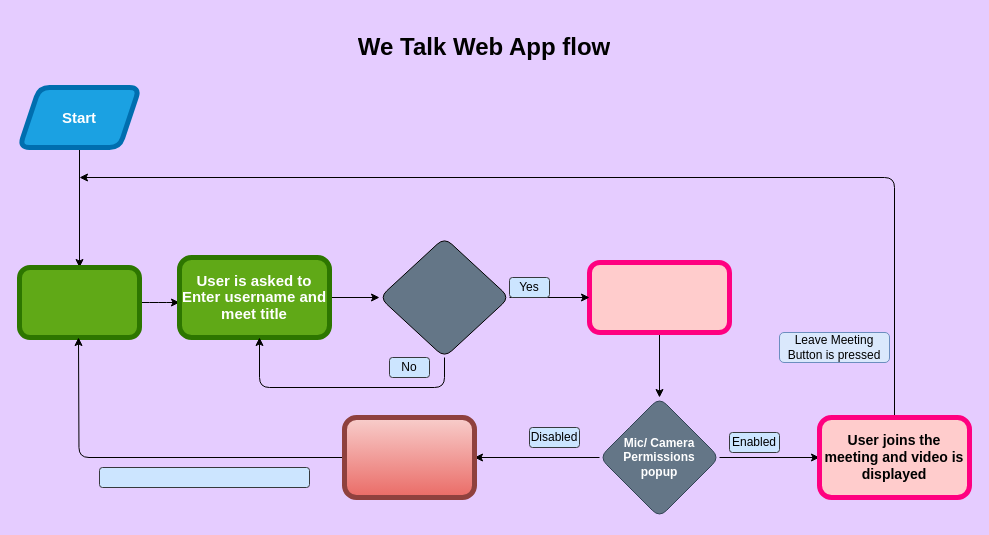
This 989x535 diagram has some shape labels left out. The shapes that lost their labels are listed below. From the top down, each one's centre as x and y in pixels, then its label:
At point 79,302: "Home Page".
At point 444,297: "Both username and meet title are entered?".
At point 659,297: "Meeting Room Screen".
At point 204,477: "Go back and refresh".
At point 409,457: "User cannot join the meeting".
